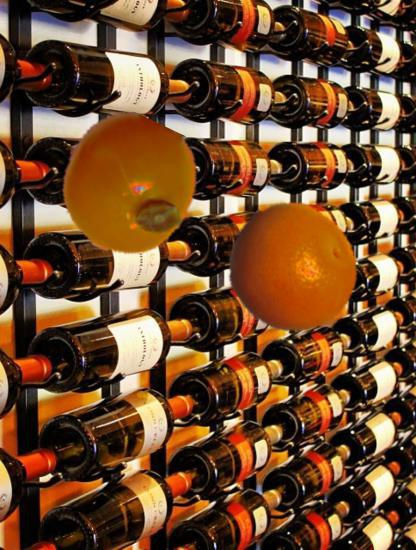Grapefruit: (225, 201, 359, 335)
Physalis: (59, 116, 198, 255)
